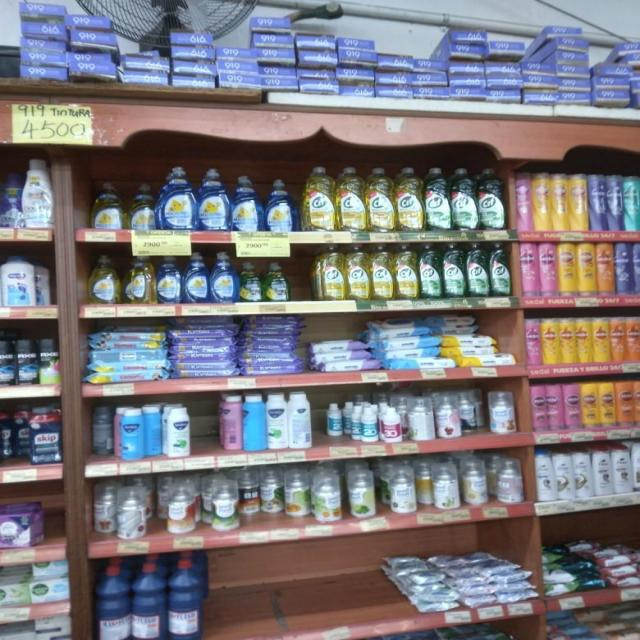ala_crem_amarillo: (569, 172, 588, 232), (550, 172, 568, 232), (532, 172, 550, 231), (558, 241, 576, 293), (578, 242, 596, 293)
cif_conc_bot_amarilla: (301, 166, 335, 232), (366, 166, 394, 232), (337, 166, 365, 232), (396, 166, 422, 232), (316, 244, 344, 302), (394, 243, 418, 300), (370, 243, 393, 301), (346, 243, 369, 300)
cif_conc_botella_verde: (478, 167, 506, 231), (451, 167, 477, 230), (425, 167, 450, 231), (466, 242, 488, 298), (419, 243, 441, 299), (442, 243, 464, 299), (489, 242, 510, 297)
magistral_con_amarillo: (91, 181, 125, 230), (88, 254, 120, 305), (123, 253, 154, 304), (127, 182, 156, 230)
magistral_con_azul: (158, 165, 195, 230), (197, 168, 230, 232), (231, 174, 262, 232), (264, 178, 296, 232), (210, 252, 237, 304), (183, 252, 209, 304), (155, 254, 182, 304)
